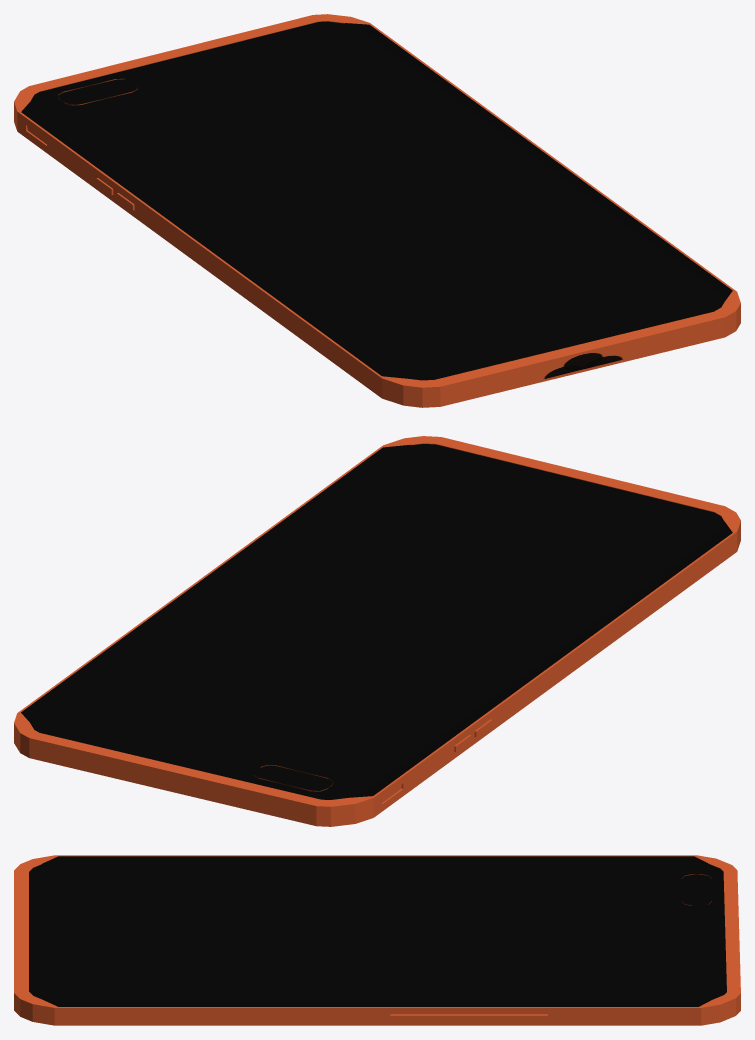
The model's file is mate40.fbx.
3 views of the same model, one above another, from view 1: azimuth 30°, elevation 25°; view 2: azimuth 150°, elevation 25°; view 3: azimuth 270°, elevation 25° (orthographic). The views are drawn at different scales.
Visible parts, largest first — view 1: 柱体; view 2: 柱体; view 3: 柱体.
Part boxes in pixels (<box>): 柱体: <box>14,14,740,407</box>; 柱体: <box>14,436,740,826</box>; 柱体: <box>14,855,740,1025</box>.
Bounding box in the file's own units: 404 × 21.83 × 802.
Materials: 1 (1 with a texture image).
